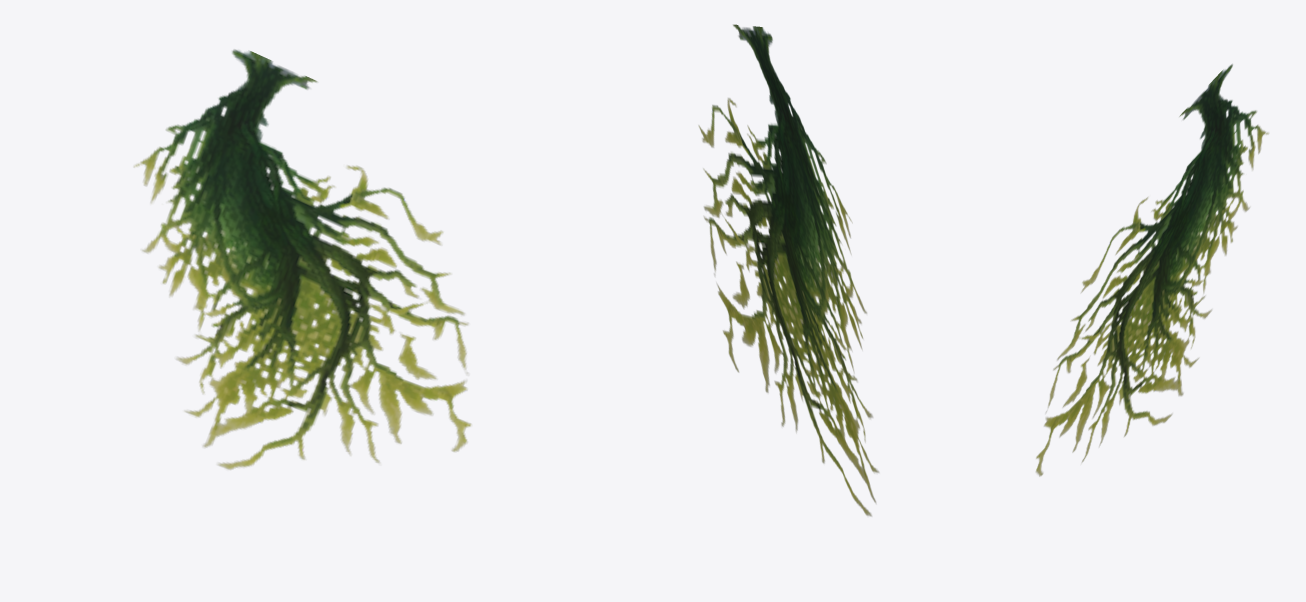
Rendered from Forest_1_Euc_2_Liquen.gltf.
The picture shows the model from 3 angles, left to right: view 1: azimuth 30°, elevation 25°; view 2: azimuth 150°, elevation 25°; view 3: azimuth 270°, elevation 25°; orthographic projection. The views are drawn at different scales.
Visible parts, largest first — view 1: Forest_1_Euc_2_Liquen; view 2: Forest_1_Euc_2_Liquen; view 3: Forest_1_Euc_2_Liquen.
Boxes of the visible parts, box(x1,y1,x2,y2) form: Forest_1_Euc_2_Liquen: box(133, 49, 471, 469); Forest_1_Euc_2_Liquen: box(698, 24, 879, 516); Forest_1_Euc_2_Liquen: box(1035, 64, 1269, 476).
Bounding box in the file's own units: 4.06 × 4.72 × 2.41.
Materials: 1 (1 with a texture image).
